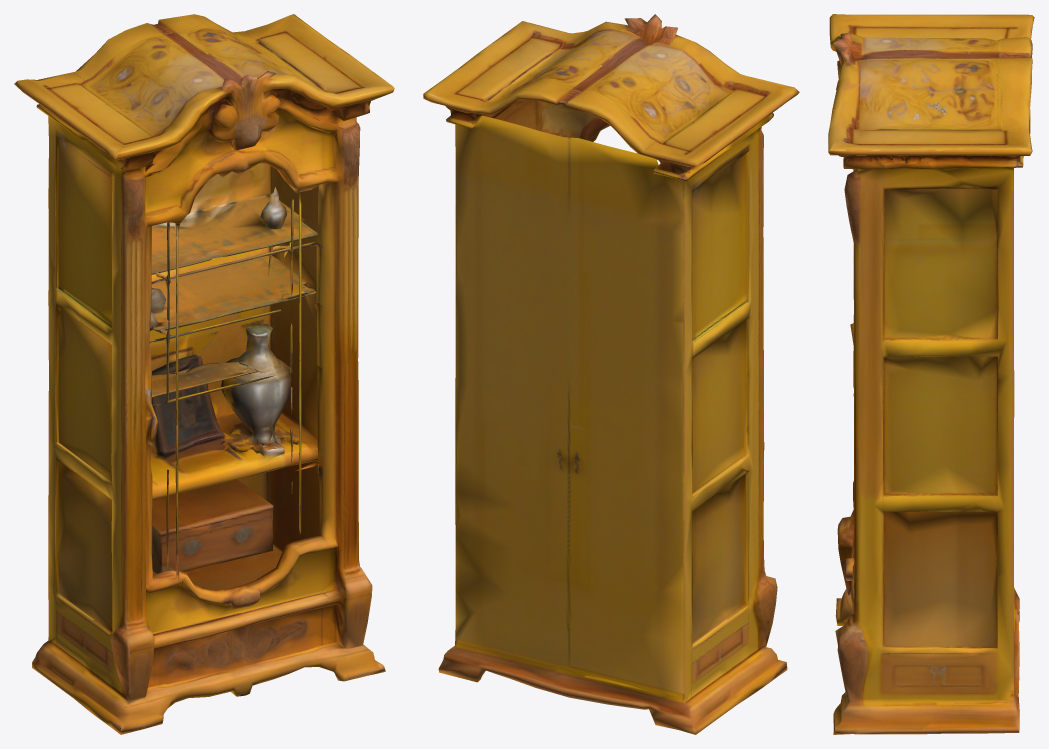
The model's file is wardrobe.glb.
3 views of the same model, side by side, from view 1: azimuth 30°, elevation 25°; view 2: azimuth 150°, elevation 25°; view 3: azimuth 270°, elevation 25° (orthographic).
Size of the model in its own units: 0.9258 by 1.98 by 0.5867.
1 material, 1 textured.
